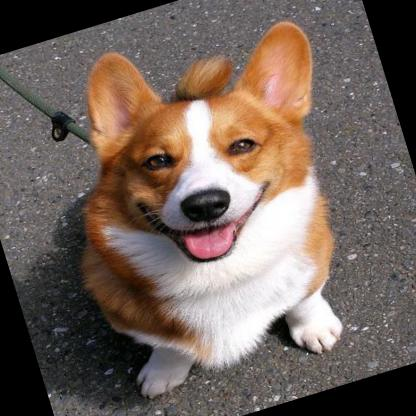Cardigan: (20, 0, 395, 412)
